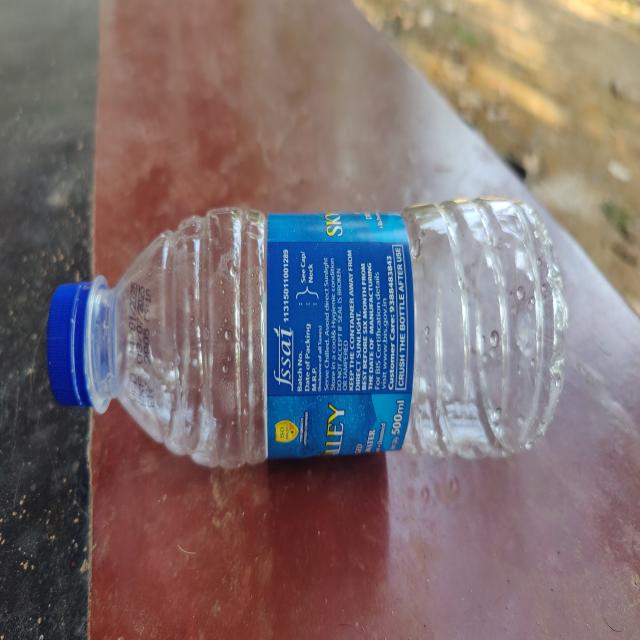plastic: (47, 200, 570, 462)
